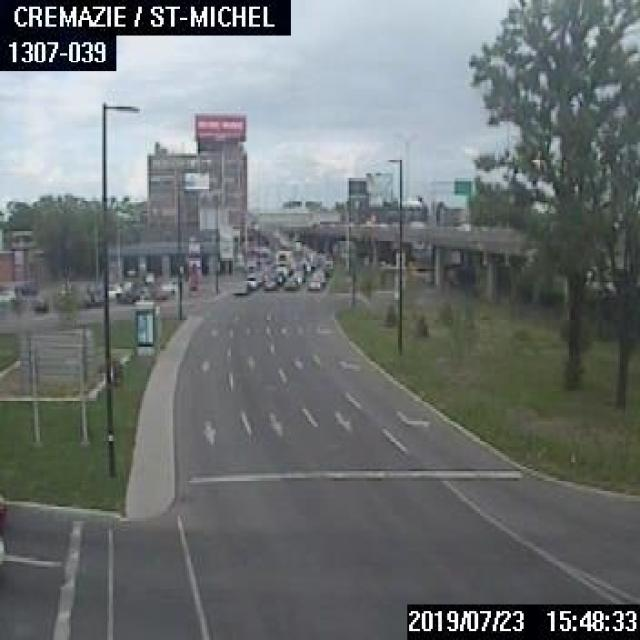vehicle: (274, 248, 290, 276), (305, 276, 320, 290), (244, 272, 258, 287), (233, 279, 247, 293), (270, 268, 283, 283), (0, 289, 15, 302), (263, 275, 276, 289), (282, 276, 296, 288)
